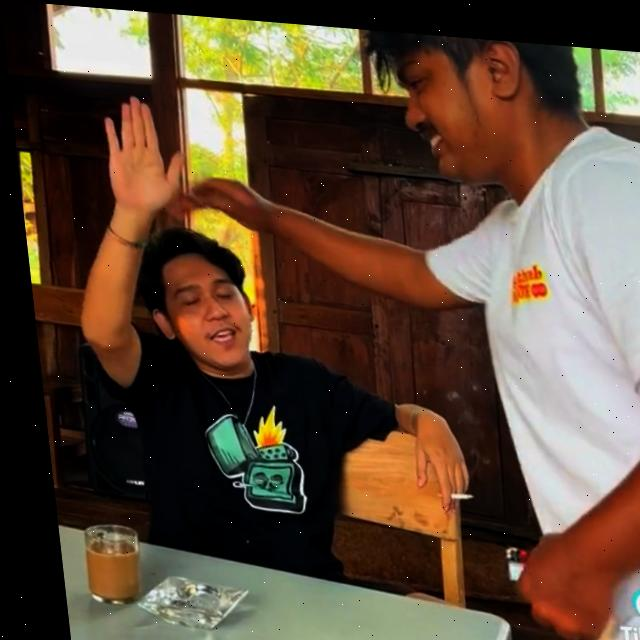cigarette: (425, 484, 464, 494)
